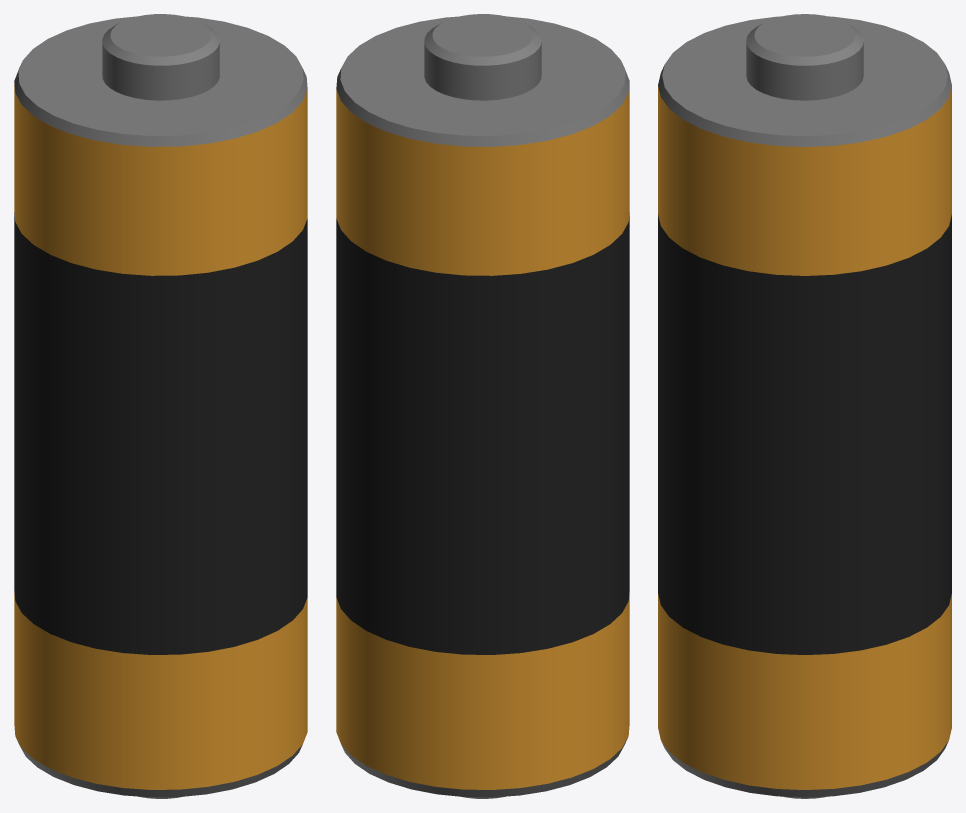
File: geo_battery.fbx
3 views of the same model, side by side, from view 1: azimuth 30°, elevation 25°; view 2: azimuth 150°, elevation 25°; view 3: azimuth 270°, elevation 25° (orthographic).
Parts seen in each view (by area): view 1: battery; view 2: battery; view 3: battery.
Boxes of the visible parts, x1,y1,x2,y2 form: battery: [14, 14, 307, 798]; battery: [336, 14, 629, 798]; battery: [658, 14, 951, 798].
Bounding box in the file's own units: 10.57 × 29.46 × 10.57.
